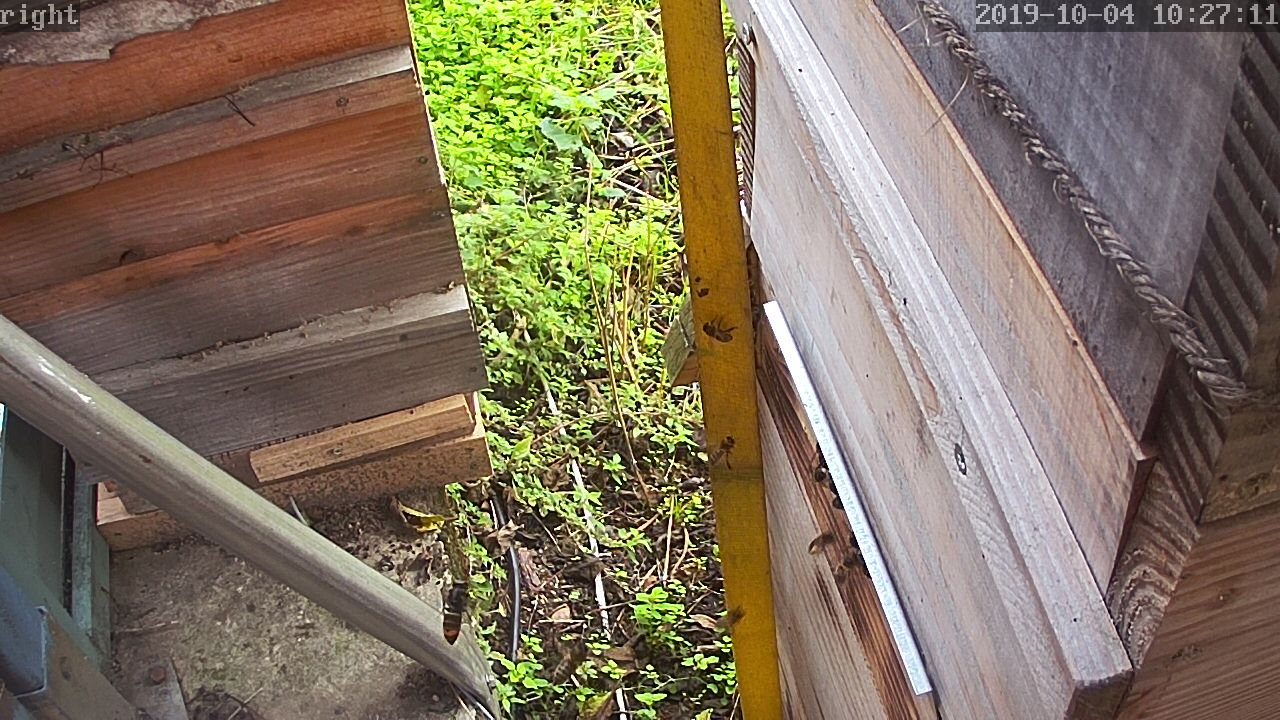bee: (838, 529, 872, 580), (705, 433, 741, 473), (699, 312, 738, 348), (804, 526, 835, 558), (808, 441, 829, 488)
hornet: (431, 581, 477, 647)
